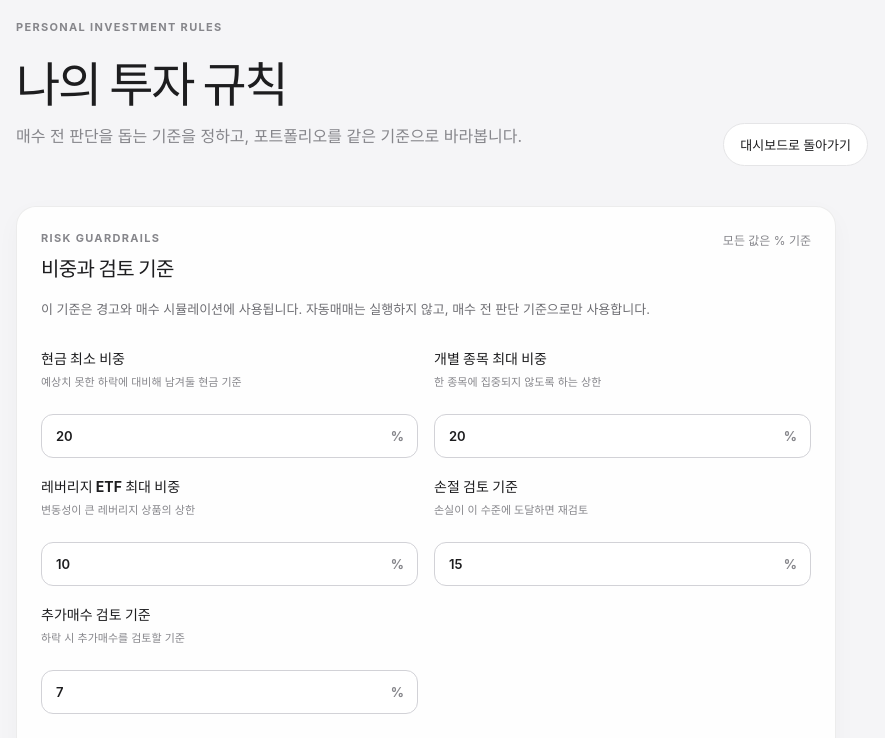
InvestmentRulesPage › converts percentage inputs to ratios before saving
Replace the text in the number field labelled "현금 최소 비중" with "25": (230,436) [41,414,418,458]
(page scrolled)
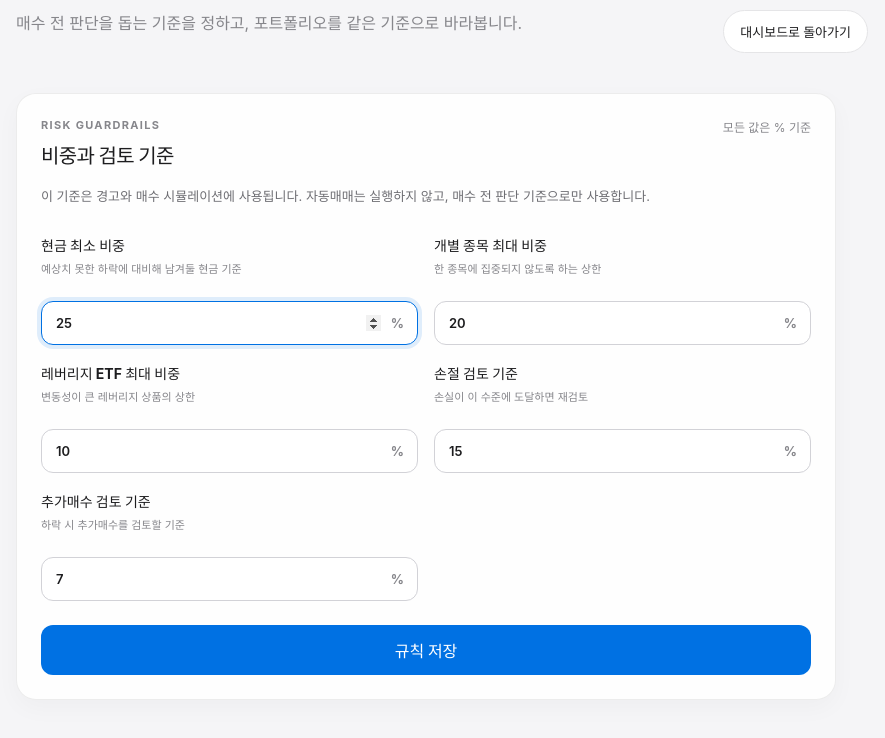
Click the button "규칙 저장": (426,650) [41,625,811,675]
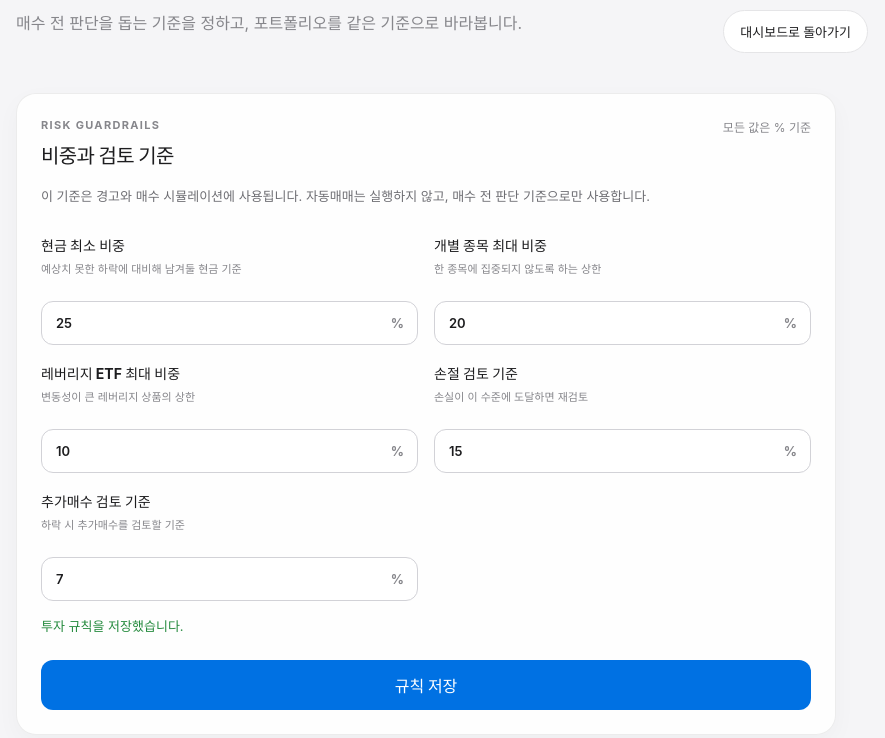
Check: the text "투자 규칙을 저장했습니다." is shown, box [41,618,184,634]
